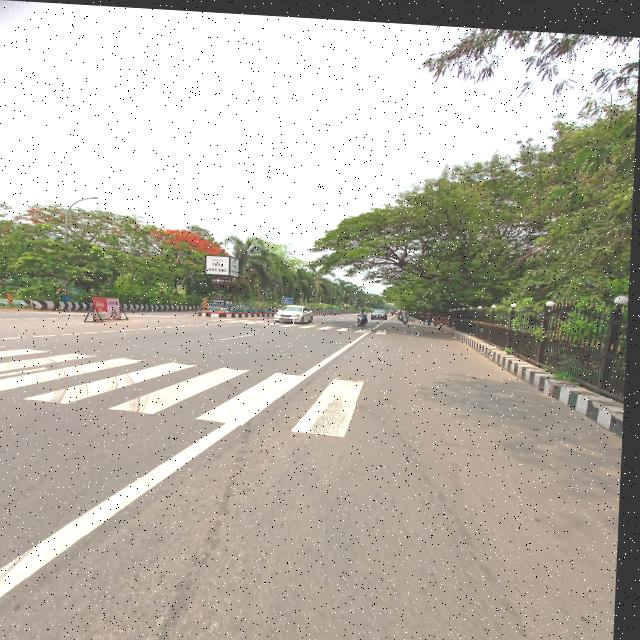bike: (358, 309, 372, 322)
car: (272, 297, 319, 325), (373, 304, 392, 316)
